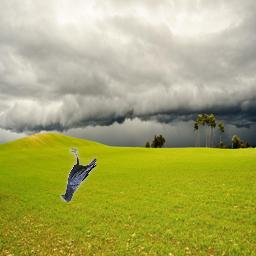Crow: (61, 148, 98, 203)
